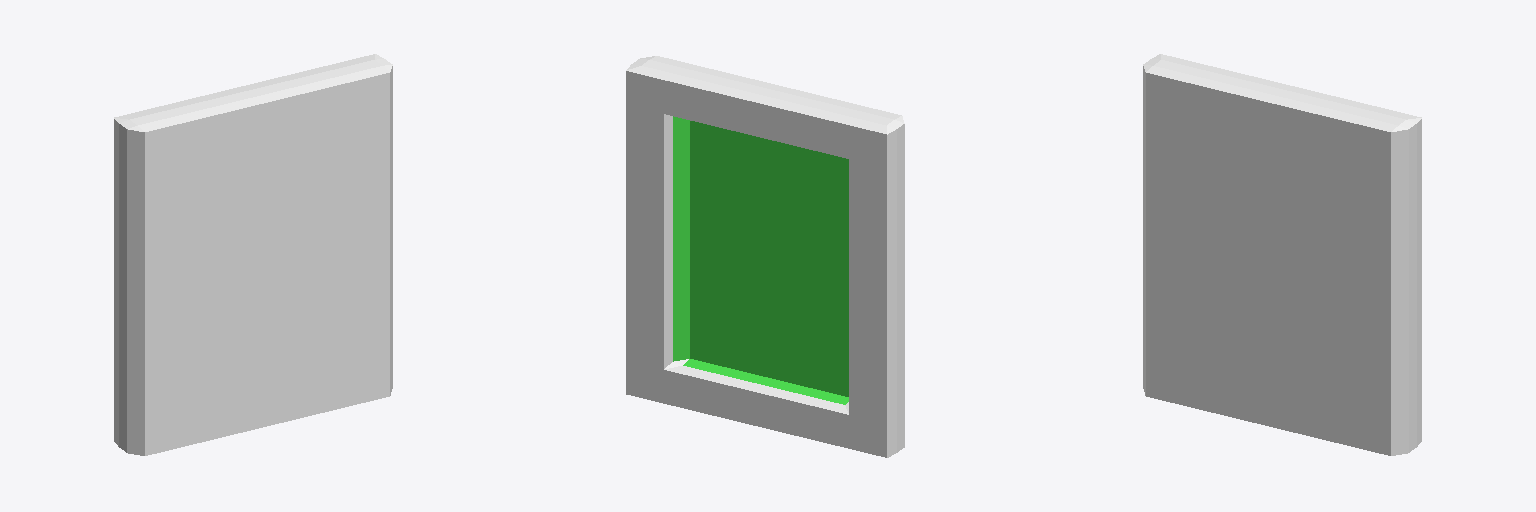
File: Picture_1.obj
The picture shows the model from 3 angles: view 1: azimuth 30°, elevation 25°; view 2: azimuth 150°, elevation 25°; view 3: azimuth 330°, elevation 25°; orthographic projection.
Visible parts, largest first — view 1: Picture_1_Cube.028; view 2: Picture_1_Cube.028; view 3: Picture_1_Cube.028.
Part boxes in pixels (left/top/right/bottom): Picture_1_Cube.028: left=114, top=54, right=392, bottom=455; Picture_1_Cube.028: left=626, top=56, right=904, bottom=457; Picture_1_Cube.028: left=1143, top=54, right=1421, bottom=455.
Size of the model in its own units: 1.07 by 1.25 by 0.1607.